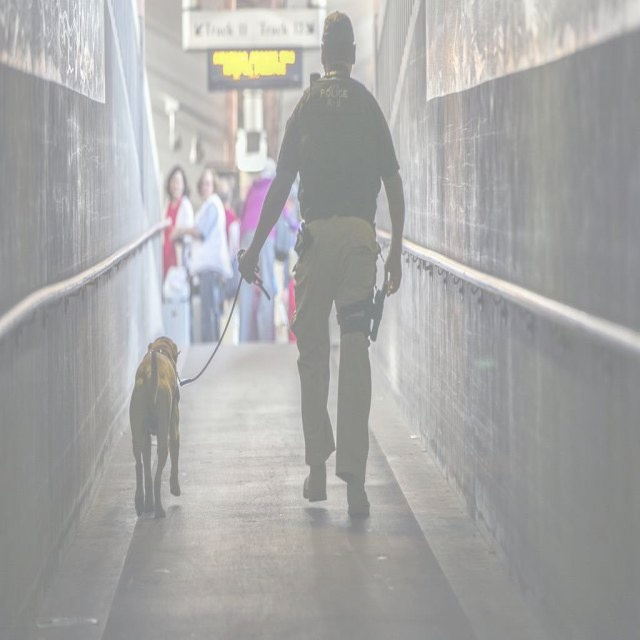pessoa: (235, 7, 408, 521), (209, 165, 302, 352), (232, 148, 296, 374), (175, 164, 228, 344), (162, 166, 196, 346)
